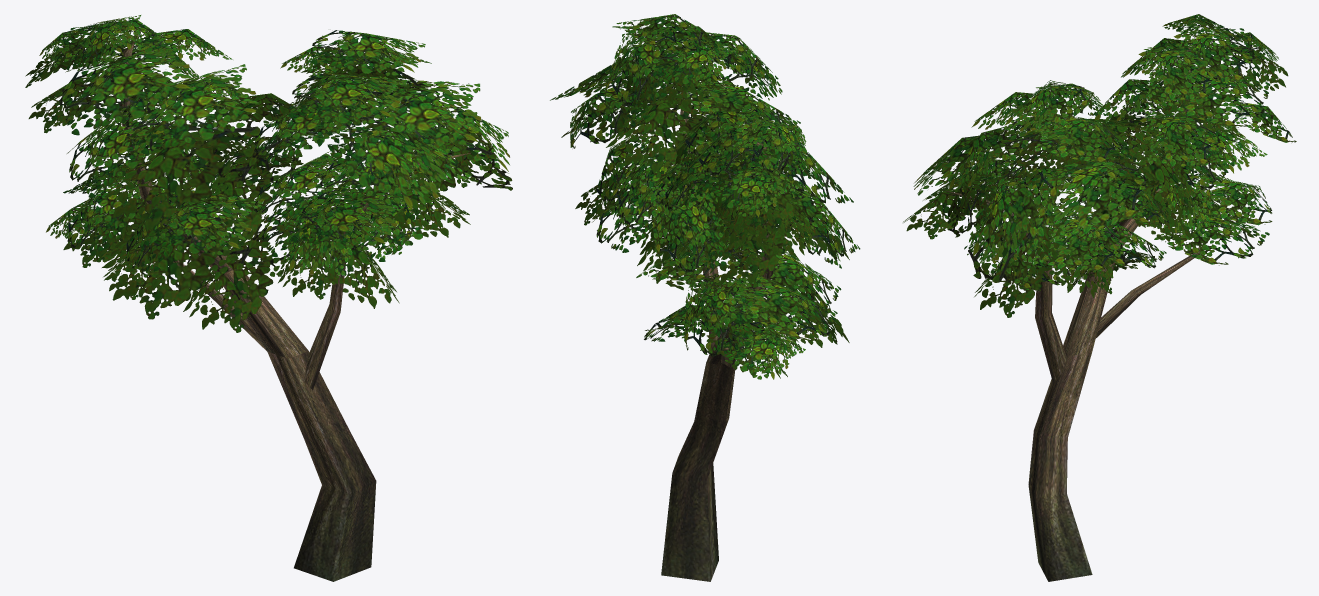
Rendered from Tree02.FBX.
The picture shows the model from 3 angles, left to right: view 1: azimuth 30°, elevation 25°; view 2: azimuth 150°, elevation 25°; view 3: azimuth 270°, elevation 25°; orthographic projection. The views are drawn at different scales.
Visible parts, largest first — view 1: Tree02; view 2: Tree02; view 3: Tree02.
Part boxes in pixels (bbox=[...]): Tree02: bbox=[25, 15, 512, 581]; Tree02: bbox=[550, 14, 860, 581]; Tree02: bbox=[903, 14, 1296, 581].
Size of the model in its own units: 354 by 478 by 363.
